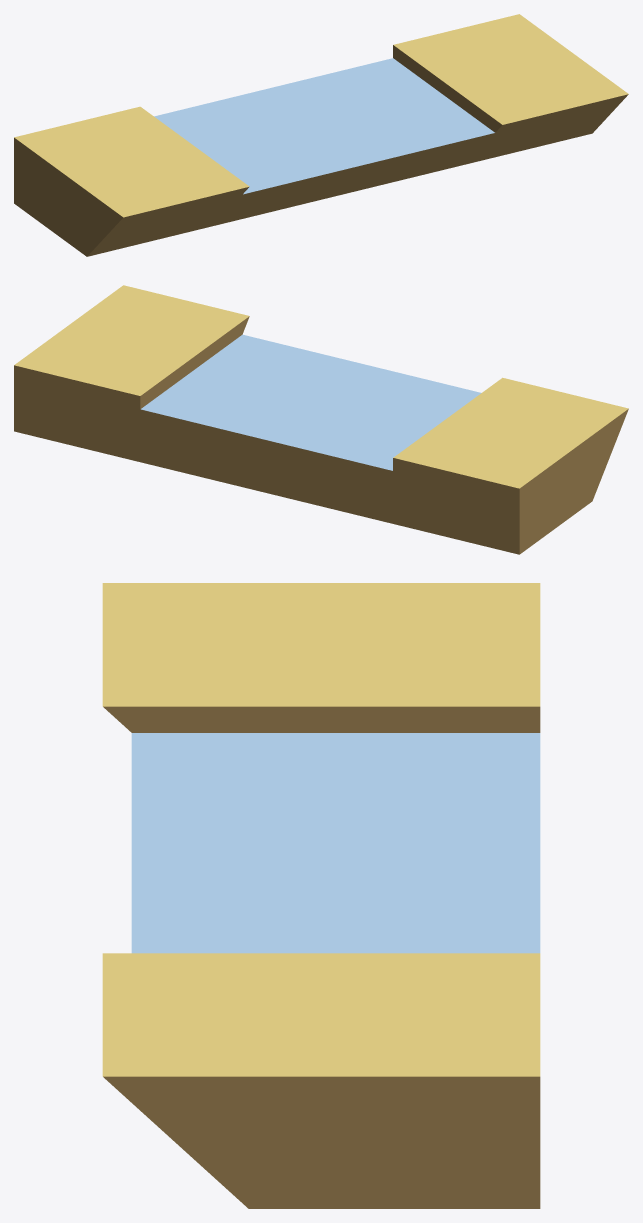
File: Terrain_Tile_Sand_Ledge_River_04.fbx
3 views of the same model, one above another, from view 1: azimuth 30°, elevation 25°; view 2: azimuth 150°, elevation 25°; view 3: azimuth 270°, elevation 25° (orthographic). The views are drawn at different scales.
Parts seen in each view (by area): view 1: Terrain_Tile_Sand_Ledge_River_04; view 2: Terrain_Tile_Sand_Ledge_River_04; view 3: Terrain_Tile_Sand_Ledge_River_04.
Part boxes in pixels (left/top/right/bottom): Terrain_Tile_Sand_Ledge_River_04: left=14, top=14, right=628, bottom=256; Terrain_Tile_Sand_Ledge_River_04: left=14, top=285, right=628, bottom=554; Terrain_Tile_Sand_Ledge_River_04: left=102, top=583, right=540, bottom=1208.
Bounding box in the file's own units: 126 × 15.75 × 47.24.
